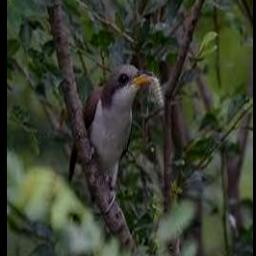Cuckoo: (69, 64, 152, 190)
